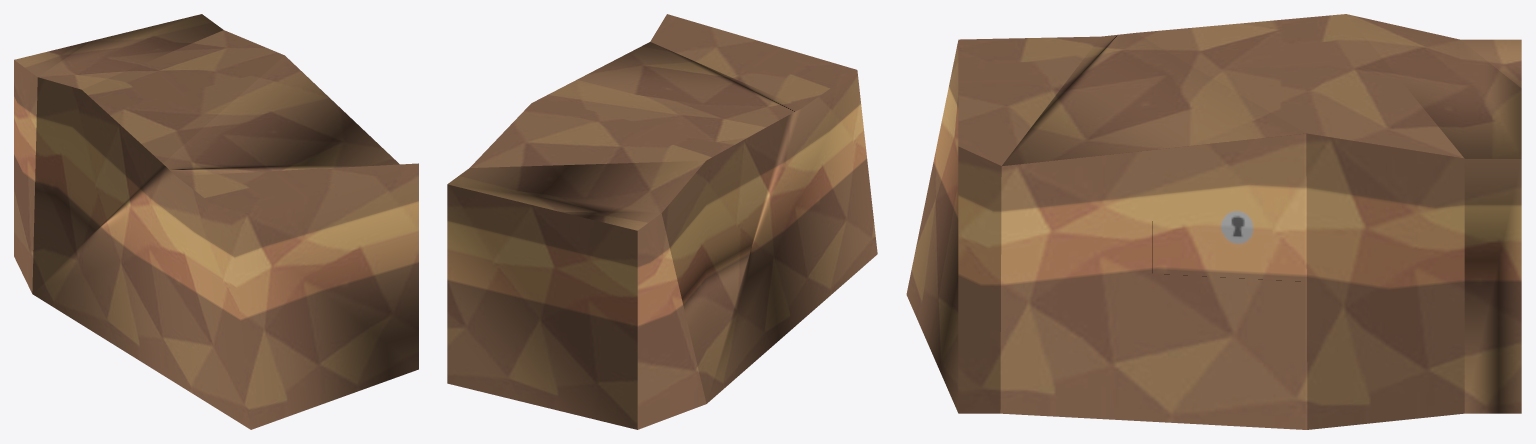
The model's file is chest.fbx.
3 renders of one model, left to right at view 1: azimuth 30°, elevation 25°; view 2: azimuth 150°, elevation 25°; view 3: azimuth 270°, elevation 25°, orthographic. The views are drawn at different scales.
Visible parts, largest first — view 1: chest; view 2: chest; view 3: chest.
Part boxes in pixels (<box>): chest: <box>14,14,418,429</box>; chest: <box>447,14,877,429</box>; chest: <box>906,14,1521,429</box>.
Bounding box in the file's own units: 48.23 × 41.8 × 83.01.
Materials: 1 (1 with a texture image).
